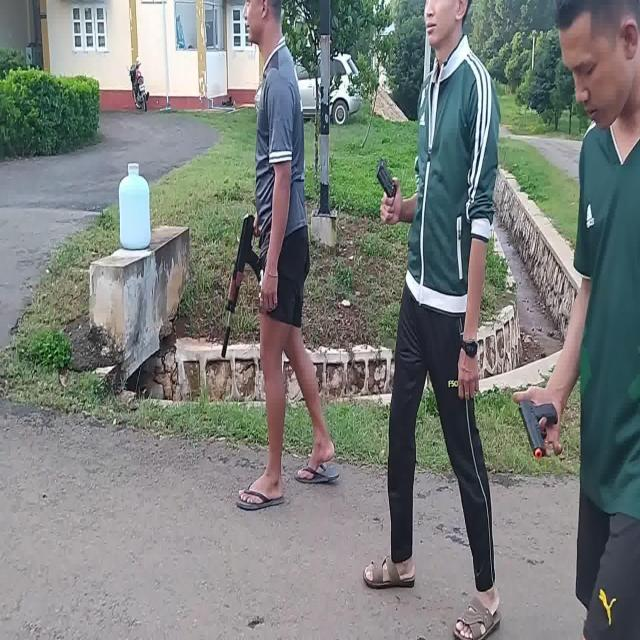gun: (222, 215, 260, 359), (518, 399, 559, 459)
